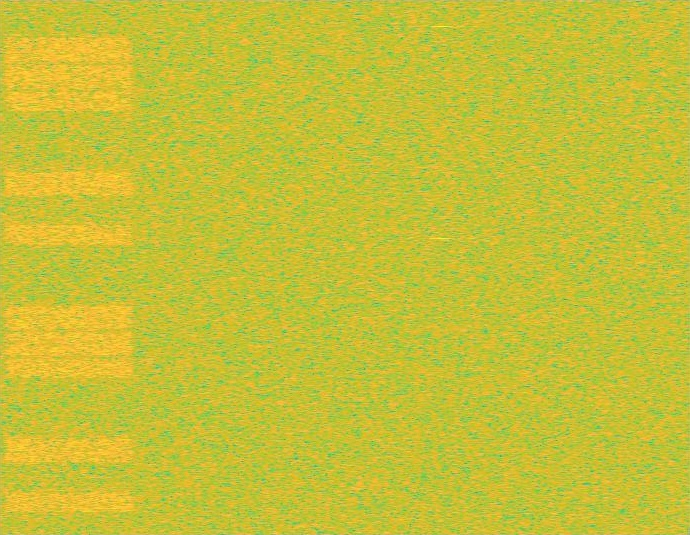LTE: (0, 0, 138, 534)
Radar: (434, 0, 448, 534)
